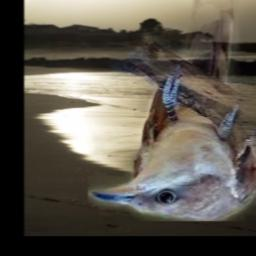Cuckoo: (89, 0, 256, 221)
